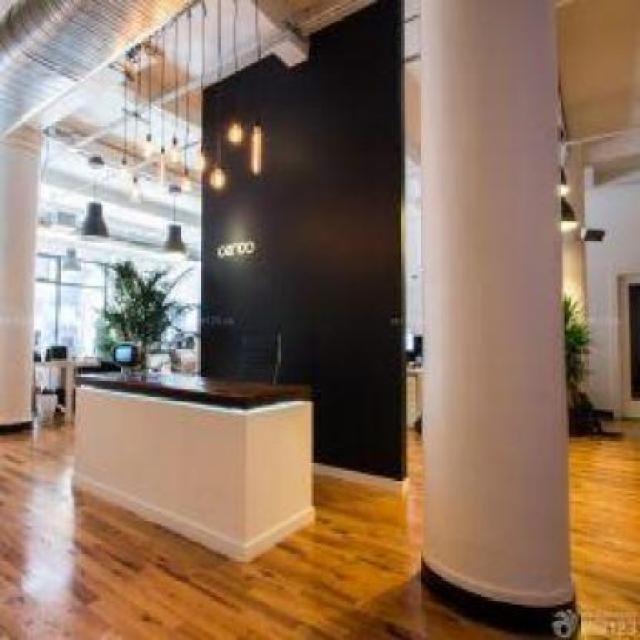frontdesk: (63, 354, 328, 570)
